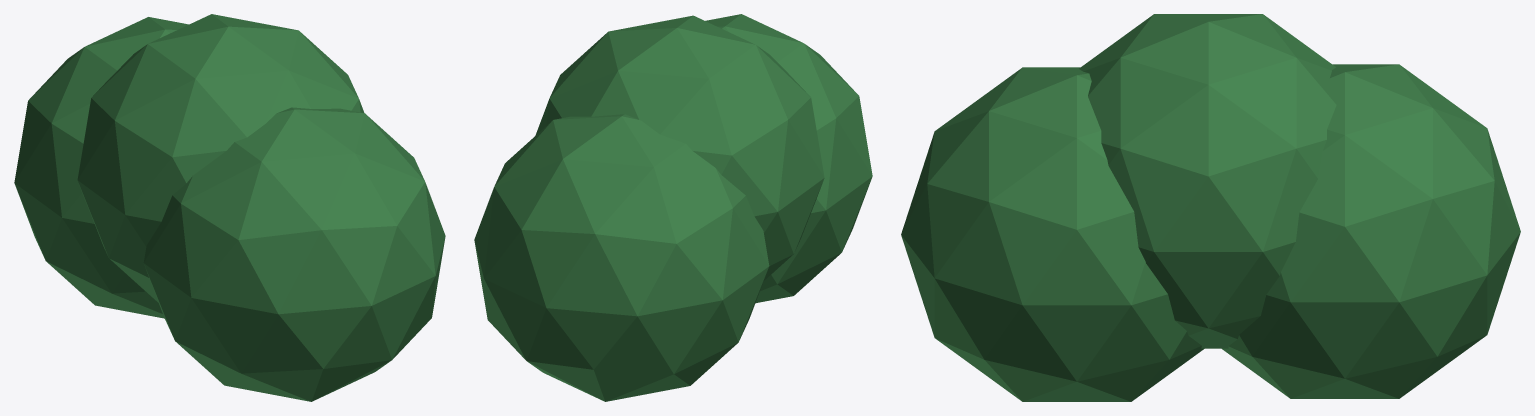
The model's file is Arbusto.fbx.
The picture shows the model from 3 angles, left to right: view 1: azimuth 30°, elevation 25°; view 2: azimuth 150°, elevation 25°; view 3: azimuth 270°, elevation 25°; orthographic projection. The views are drawn at different scales.
Visible parts, largest first — view 1: Icosphere.002; view 2: Icosphere.002; view 3: Icosphere.002.
Boxes of the visible parts, bbox=[...] form: Icosphere.002: bbox=[14, 14, 445, 401]; Icosphere.002: bbox=[474, 14, 872, 401]; Icosphere.002: bbox=[901, 14, 1520, 401].
Size of the model in its own units: 199 by 233 by 352.
